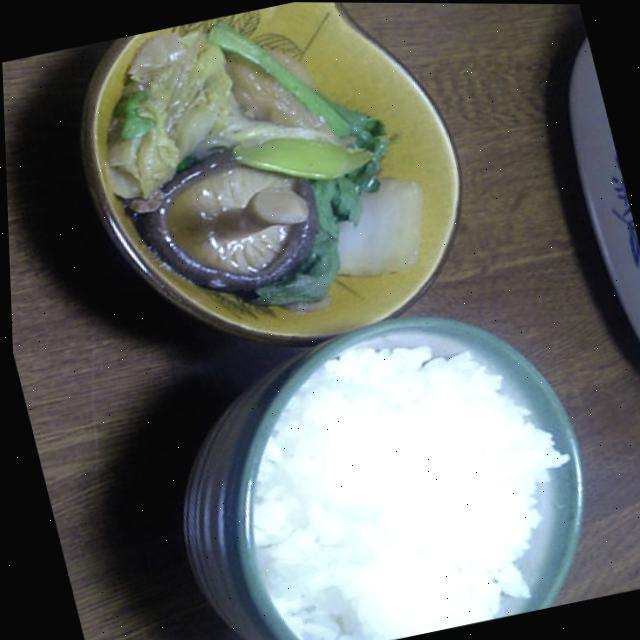米饭主食: (200, 289, 631, 640)
